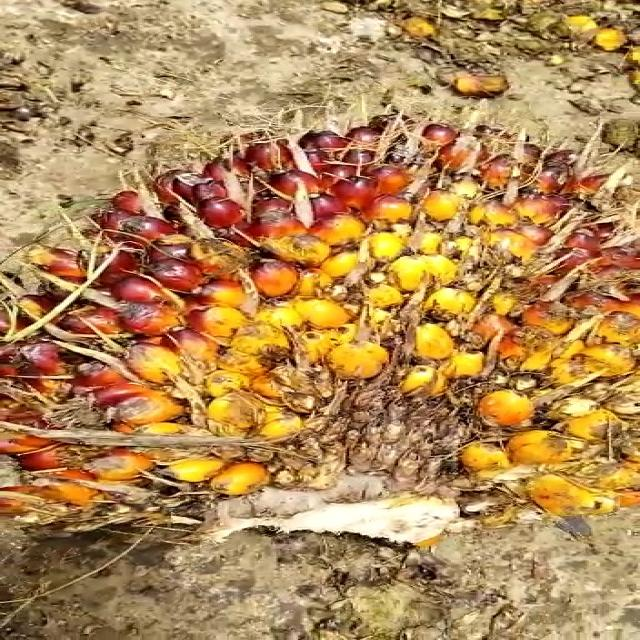palm oil: (0, 119, 640, 555)
